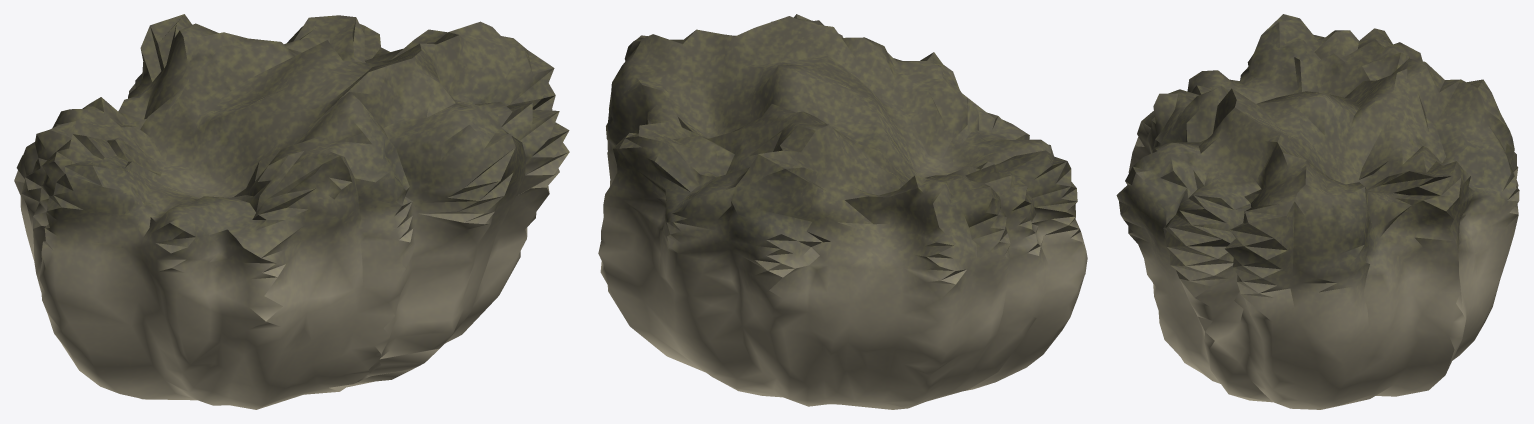
The model's file is ReefRock_C.gltf.
3 renders of one model, left to right at view 1: azimuth 30°, elevation 25°; view 2: azimuth 150°, elevation 25°; view 3: azimuth 270°, elevation 25°, orthographic. The views are drawn at different scales.
Visible parts, largest first — view 1: ReefRock_C; view 2: ReefRock_C; view 3: ReefRock_C.
Part boxes in pixels (bbox=[...]): ReefRock_C: bbox=[14, 14, 569, 409]; ReefRock_C: bbox=[598, 14, 1087, 409]; ReefRock_C: bbox=[1116, 14, 1519, 409].
Bounding box in the file's own units: 1.3 × 0.8065 × 0.9767.
1 material, 1 textured.
